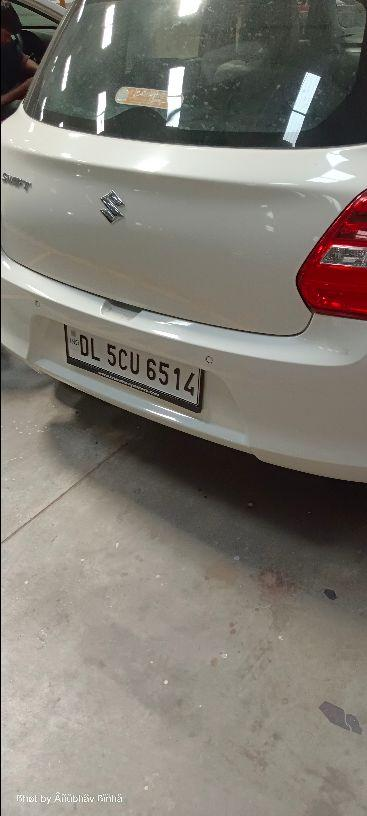license_plate: (63, 322, 204, 413)
